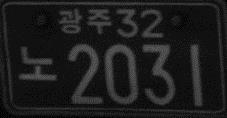0: (105, 43, 139, 106)
1: (188, 41, 206, 107)
2: (68, 43, 103, 105), (139, 7, 164, 38)
3: (141, 43, 176, 104), (115, 6, 137, 39)
광주_O: (58, 6, 112, 34)
노: (17, 44, 58, 82)
